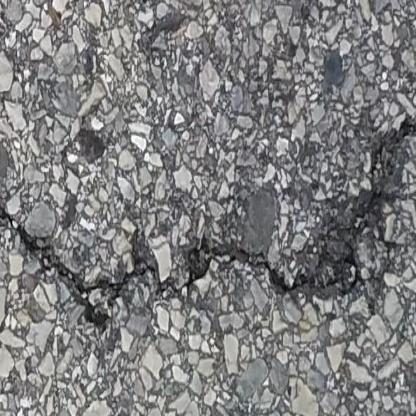Cracks: (0, 117, 416, 325)
